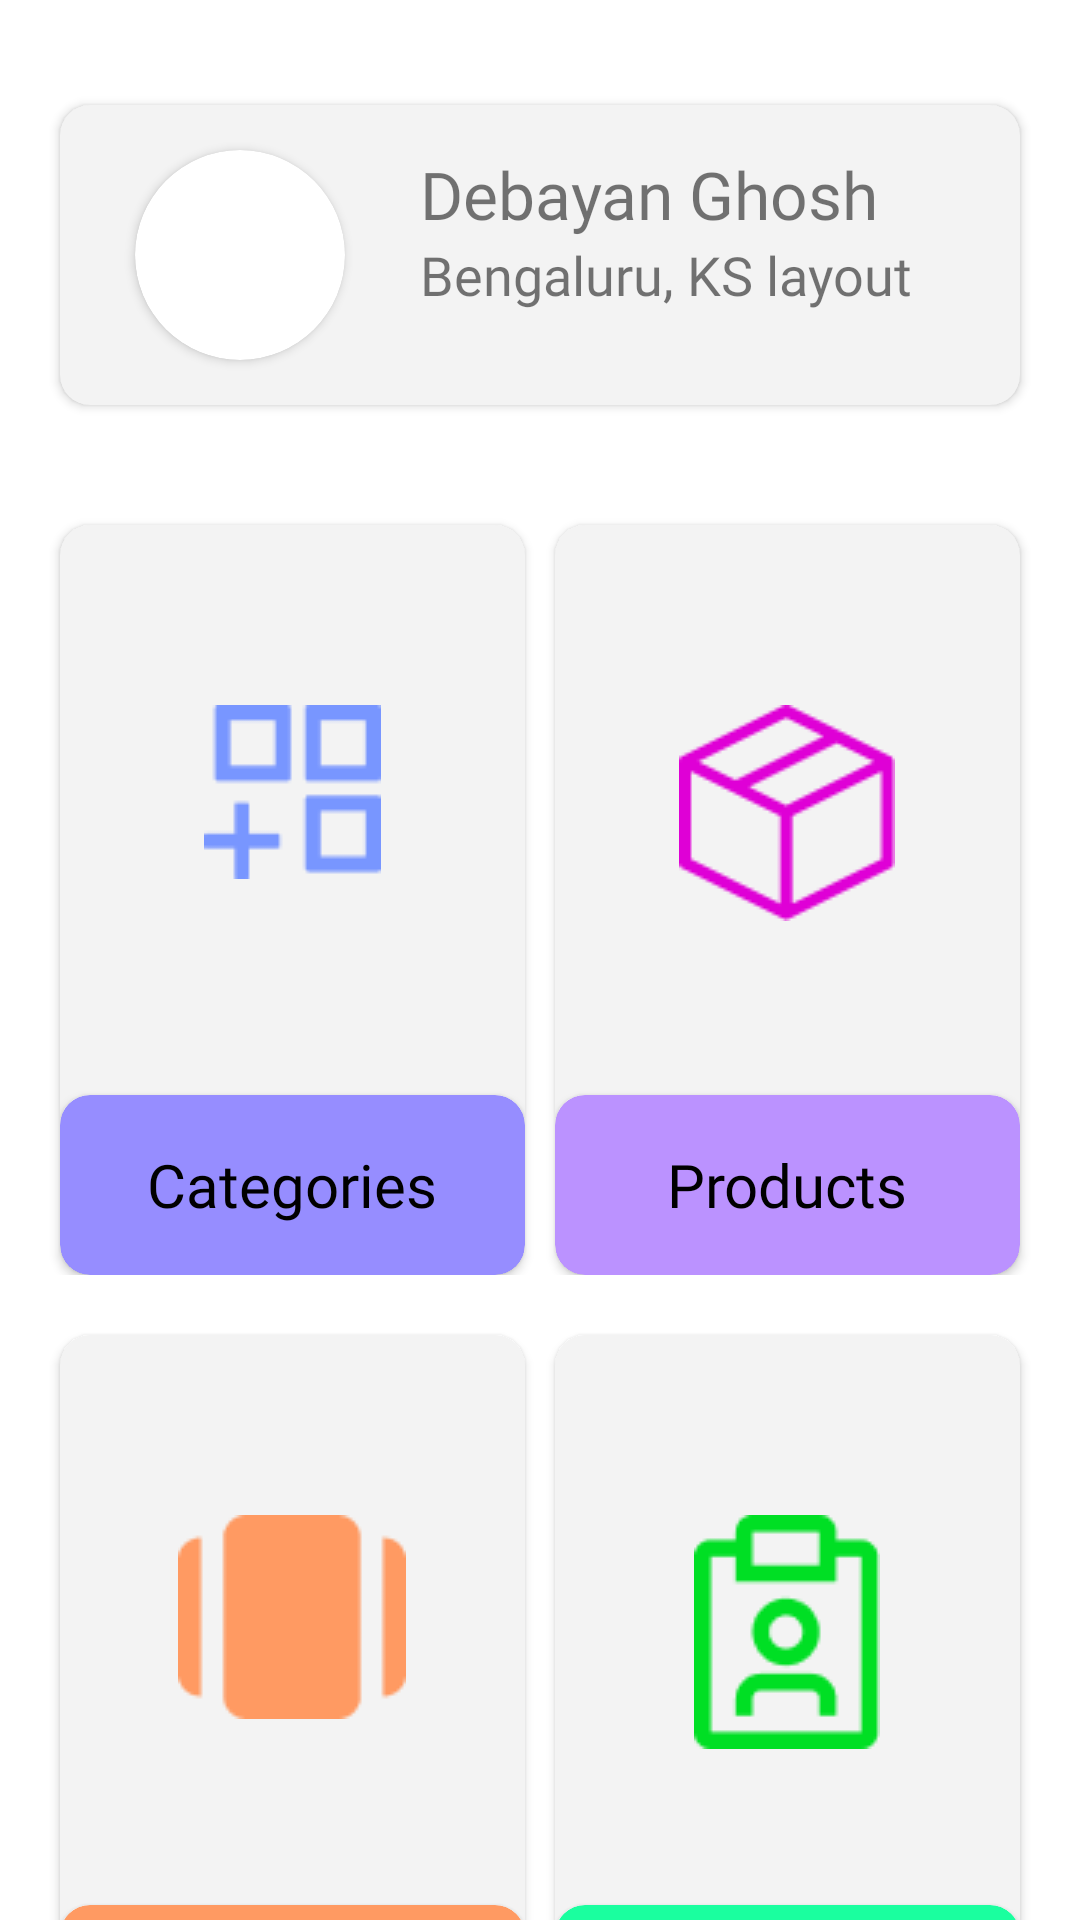

Point at icon controls on the screen. Image size 1080w x 1920h, points as point (x, y).
categories: point (292, 792)
products: point (787, 813)
slider: point (292, 1617)
